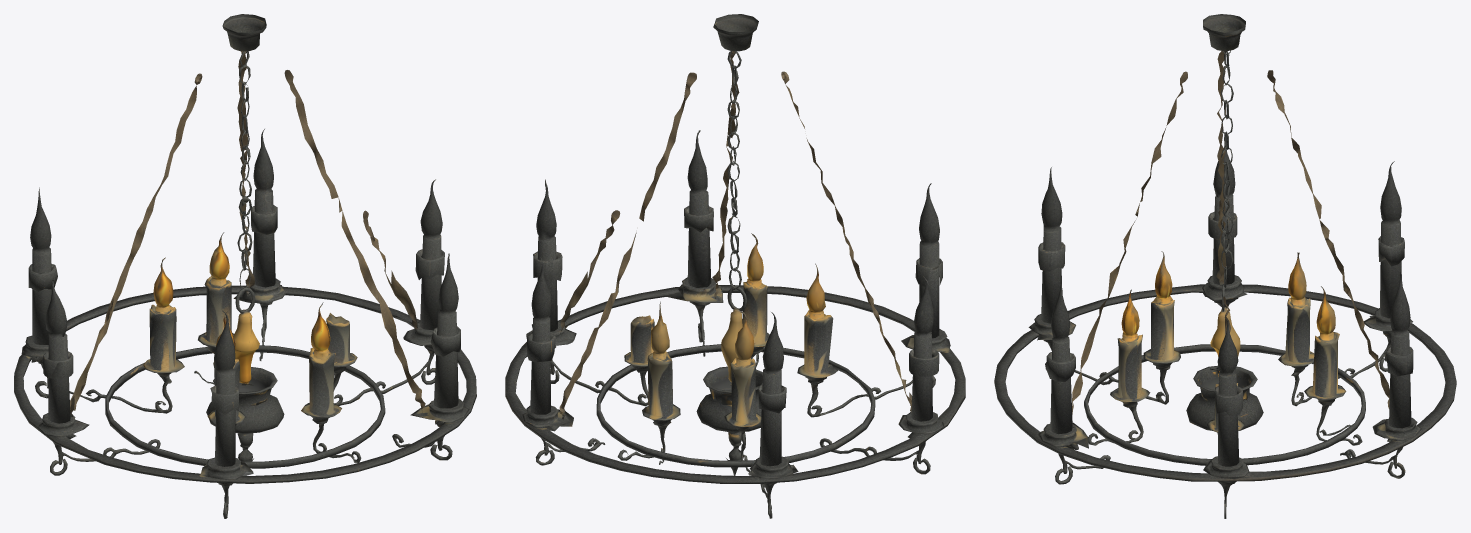
File: MeshySource.glb
3 renders of one model, left to right at view 1: azimuth 30°, elevation 25°; view 2: azimuth 150°, elevation 25°; view 3: azimuth 270°, elevation 25°, orthographic.
Size of the model in its own units: 0.8965 by 0.9502 by 0.8784.
1 material, 1 textured.
